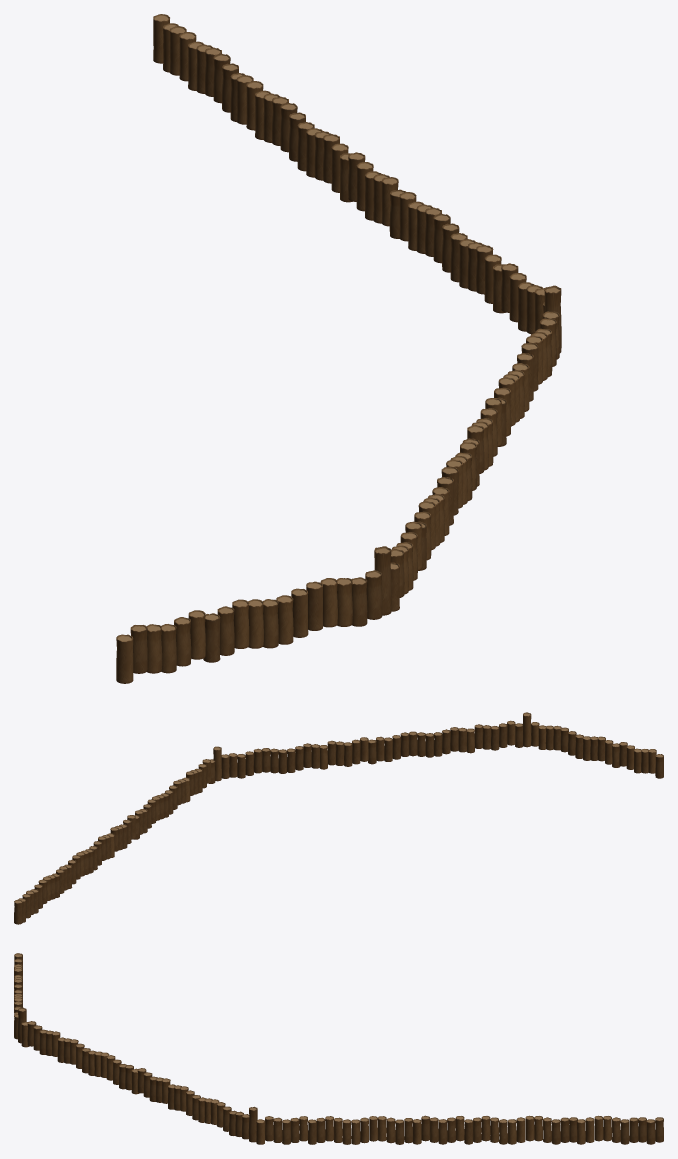
Rendered from Zone1_Small_log_Wall.fbx.
3 renders of one model, top to bottom at view 1: azimuth 30°, elevation 25°; view 2: azimuth 150°, elevation 25°; view 3: azimuth 270°, elevation 25°, orthographic. The views are drawn at different scales.
Parts seen in each view (by area): view 1: Log_Wall_piece.103; view 2: Log_Wall_piece.103; view 3: Log_Wall_piece.103.
Part boxes in pixels (<box>): Log_Wall_piece.103: <box>116,14,561,683</box>; Log_Wall_piece.103: <box>14,712,663,924</box>; Log_Wall_piece.103: <box>14,953,663,1144</box>.
Bounding box in the file's own units: 2542 × 230 × 4106.
1 material, 1 textured.
